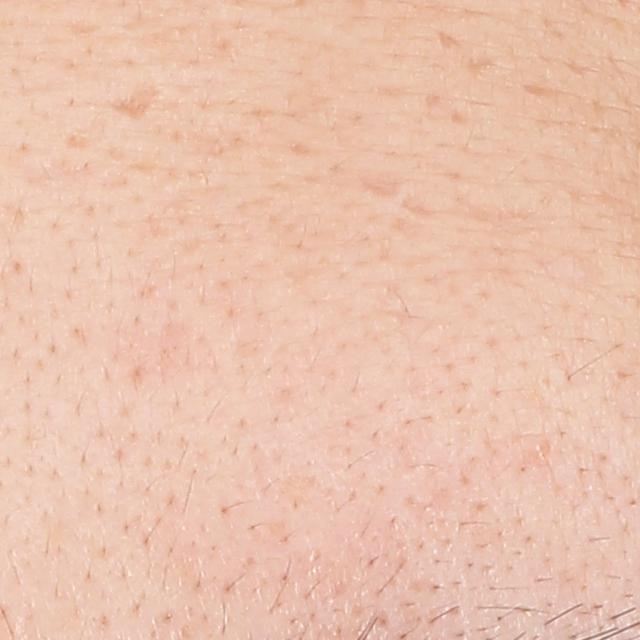atrophic_scar: (351, 168, 416, 198), (108, 88, 160, 121), (401, 193, 438, 219), (461, 51, 502, 71), (439, 28, 464, 52)
